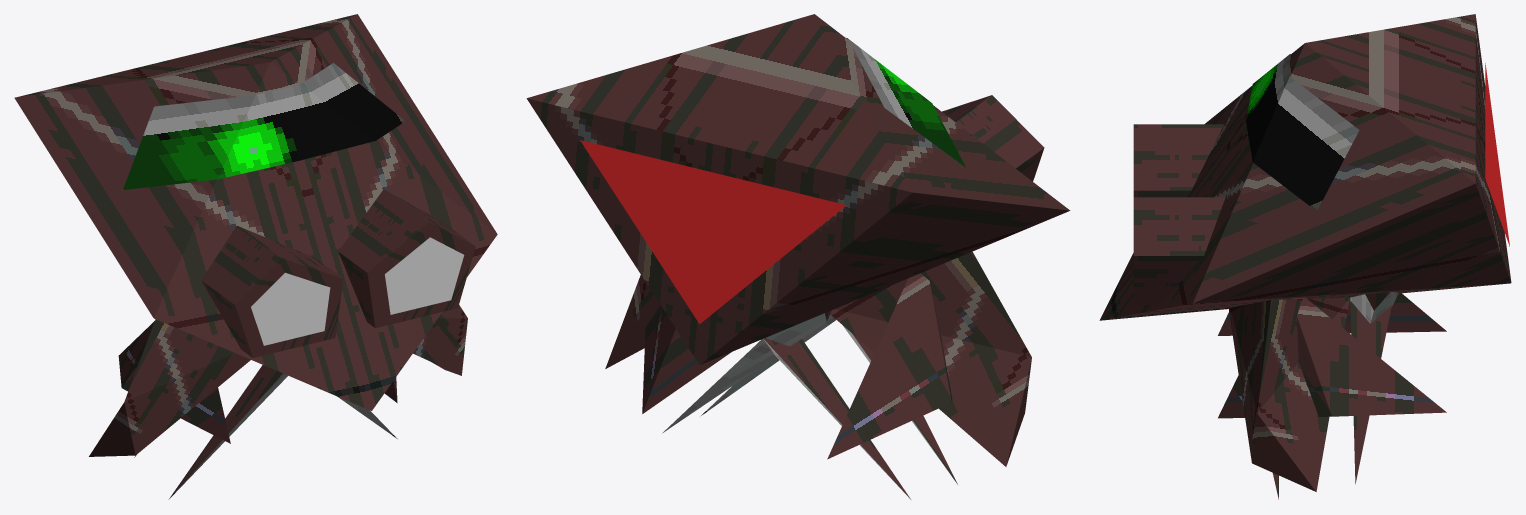
File: model_040_robot_noname.glb
3 views of the same model, side by side, from view 1: azimuth 30°, elevation 25°; view 2: azimuth 150°, elevation 25°; view 3: azimuth 270°, elevation 25° (orthographic). The views are drawn at different scales.
Visible parts, largest first — view 1: model_040; view 2: model_040; view 3: model_040.
Boxes of the visible parts, x1,y1,x2,y2 form: model_040: [14, 14, 497, 499]; model_040: [526, 14, 1070, 499]; model_040: [1099, 14, 1511, 499].
Bounding box in the file's own units: 6.48 × 6.97 × 6.41.
Materials: 6 (5 with a texture image).
